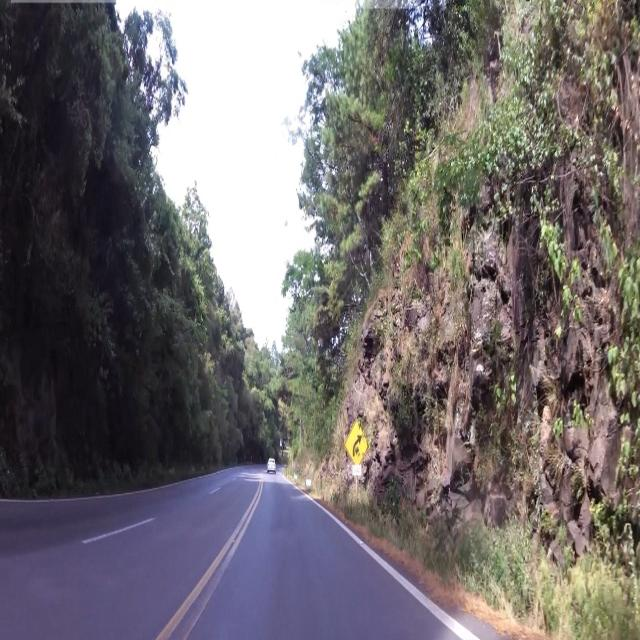A-2b: (342, 416, 369, 466)
